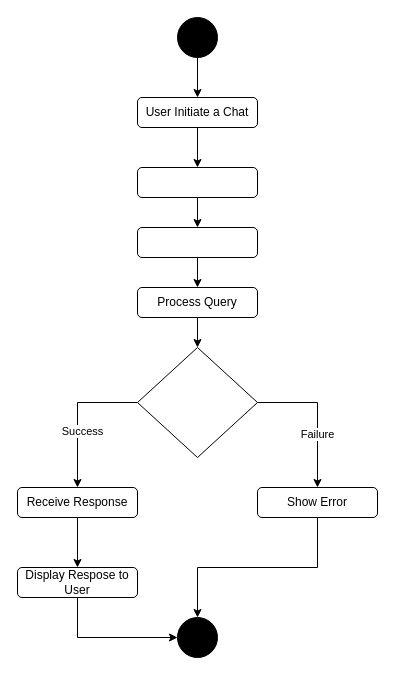
Image size: 395x675. Some labels were removed from this diagram. The centre of each missing label's shape, as x and y in pixels:
FastBot API: the point at 197,242
Query Processing ?: the point at 197,402
User Types Query: the point at 197,182
